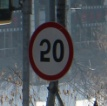Speed limit: (22, 22, 80, 82)
